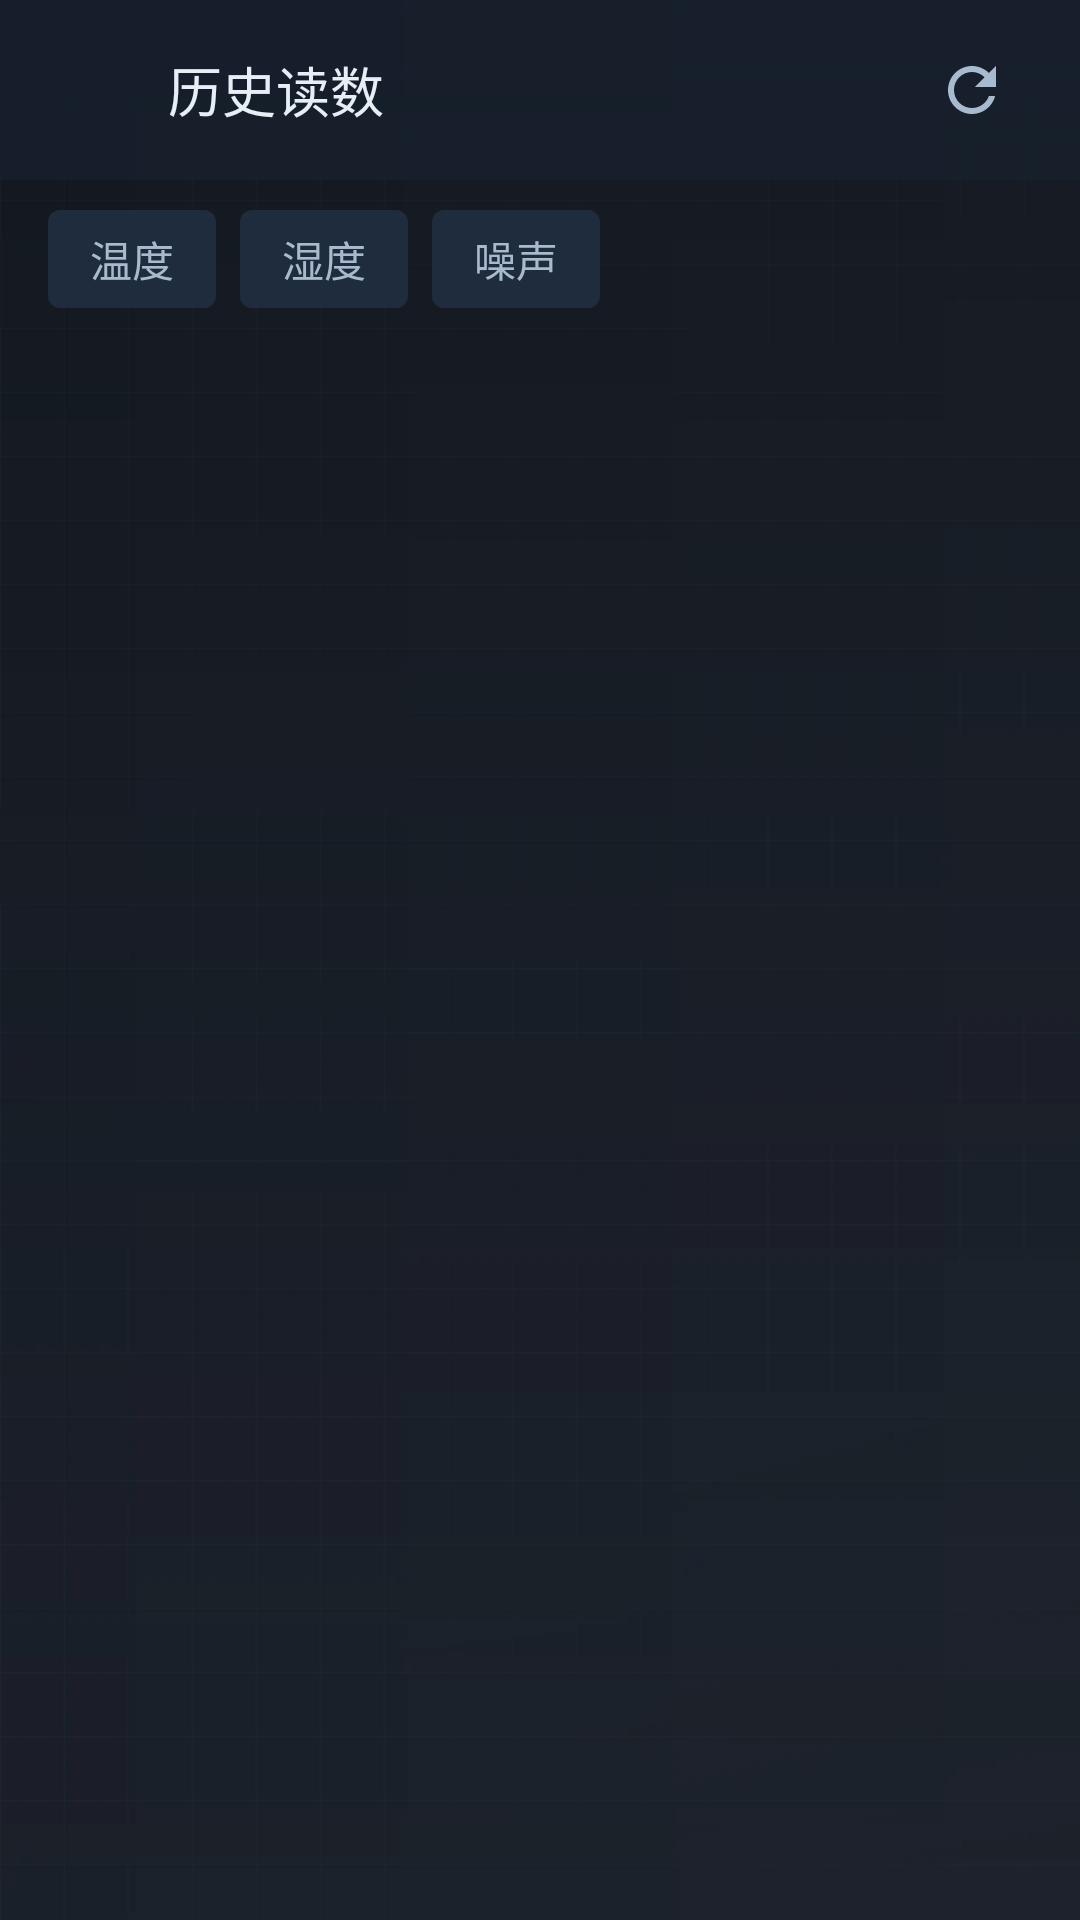

Icons on this 1080 x 1920 Android screen, each with its box as bbox(x1, y1, x2, y2):
重新读取: bbox(948, 66, 996, 114)
